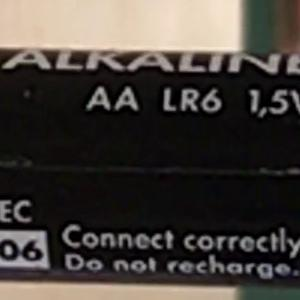keyword: (154, 80, 231, 120)
